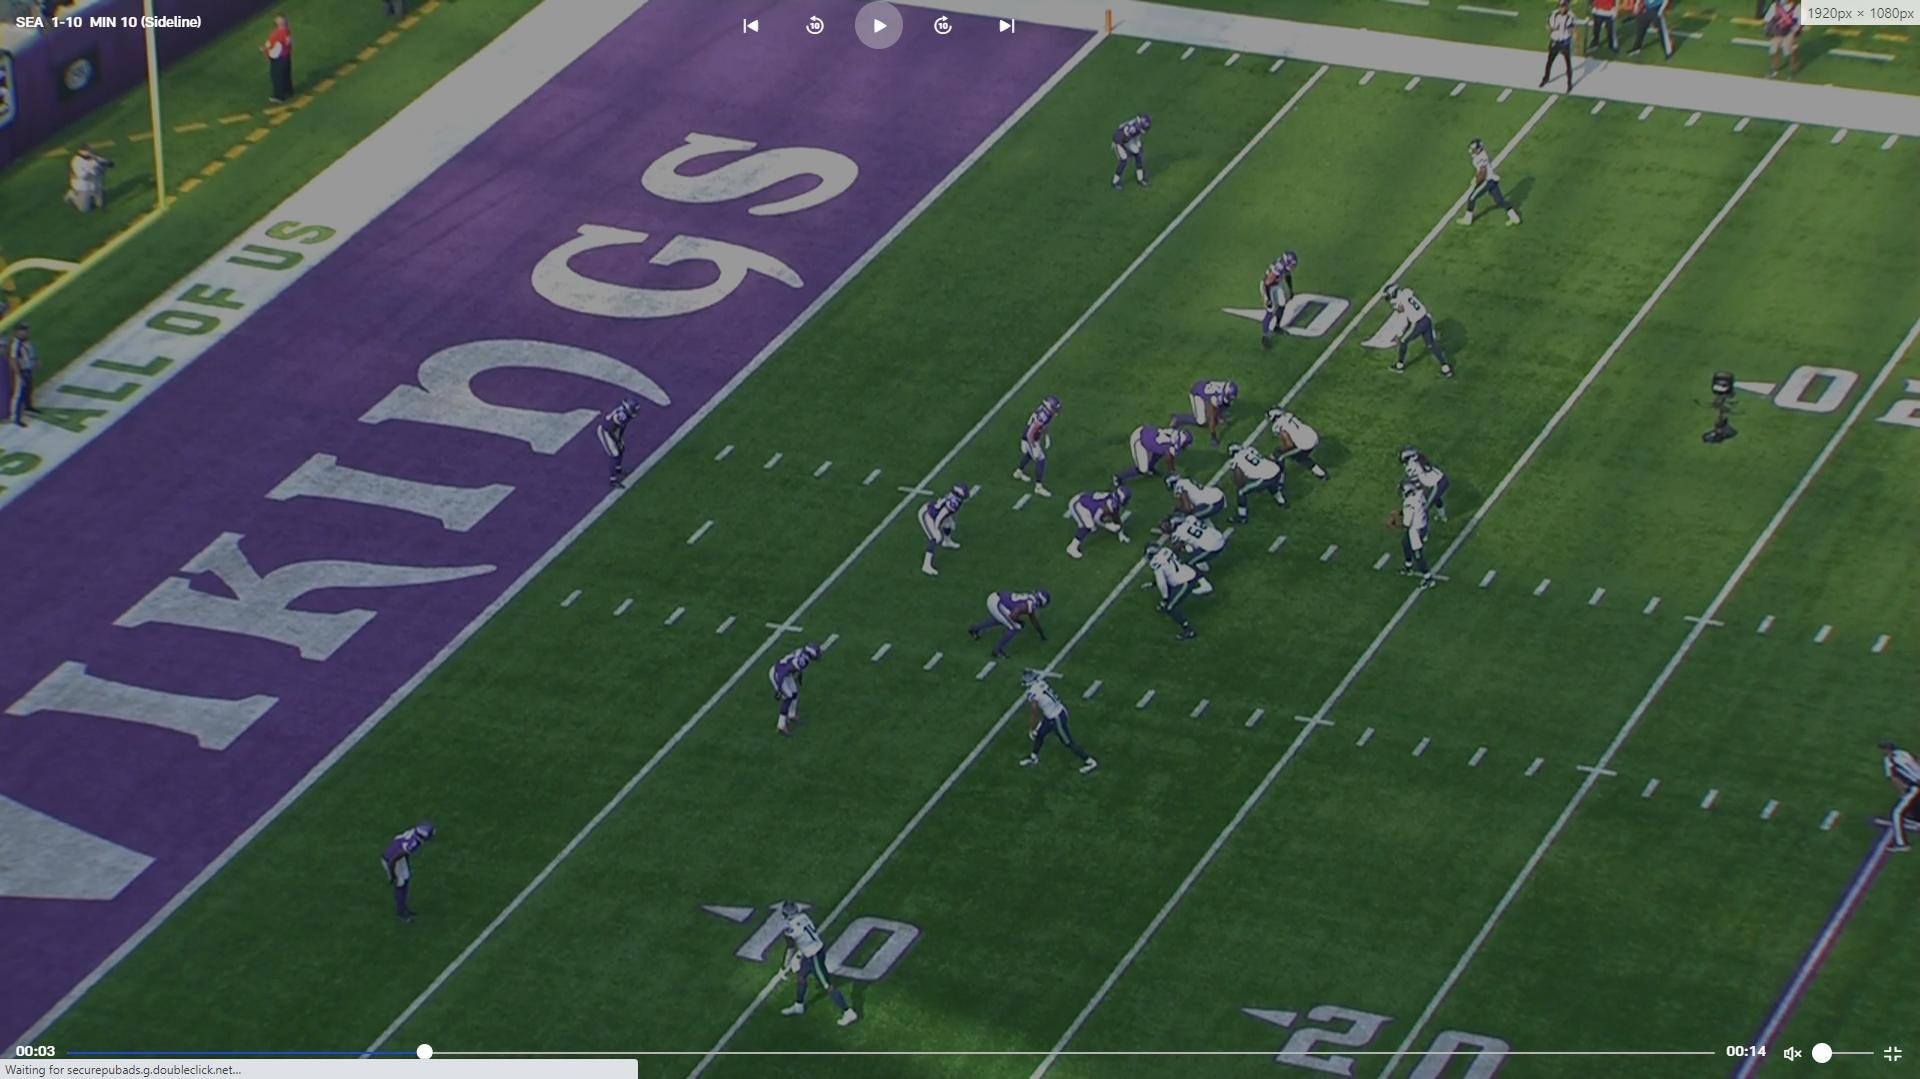defense: (969, 586, 1062, 662), (381, 817, 438, 925), (770, 640, 829, 741), (916, 481, 976, 580), (1116, 421, 1197, 488), (1060, 487, 1133, 561), (1017, 394, 1068, 497), (1255, 247, 1302, 351), (1168, 379, 1241, 441), (599, 393, 644, 493), (1105, 107, 1154, 195)
oline: (1145, 546, 1207, 645), (1163, 513, 1228, 596), (1267, 405, 1331, 483), (1228, 442, 1290, 518), (1168, 471, 1226, 518)
qb: (1390, 463, 1436, 582)
ref: (1876, 732, 1920, 853), (1539, 3, 1588, 98), (3, 324, 42, 430)
skill: (778, 900, 861, 1028), (1017, 667, 1102, 780), (1379, 282, 1453, 383), (1458, 135, 1526, 230), (1395, 443, 1451, 530)
